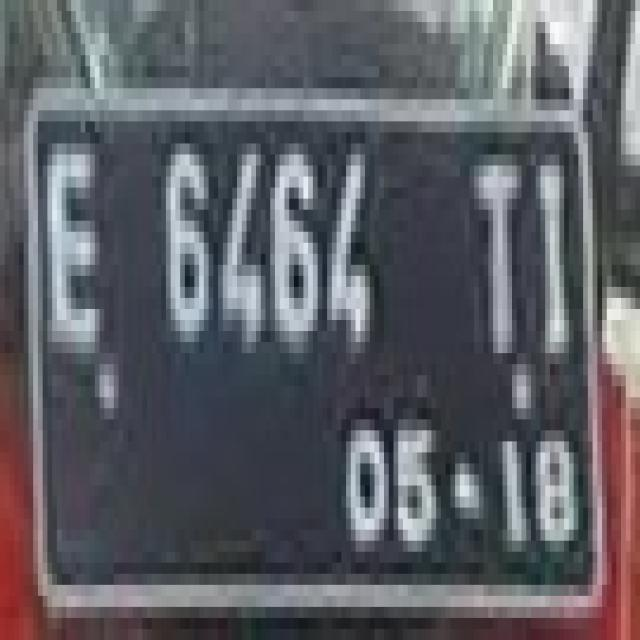plate: (24, 66, 597, 607)
